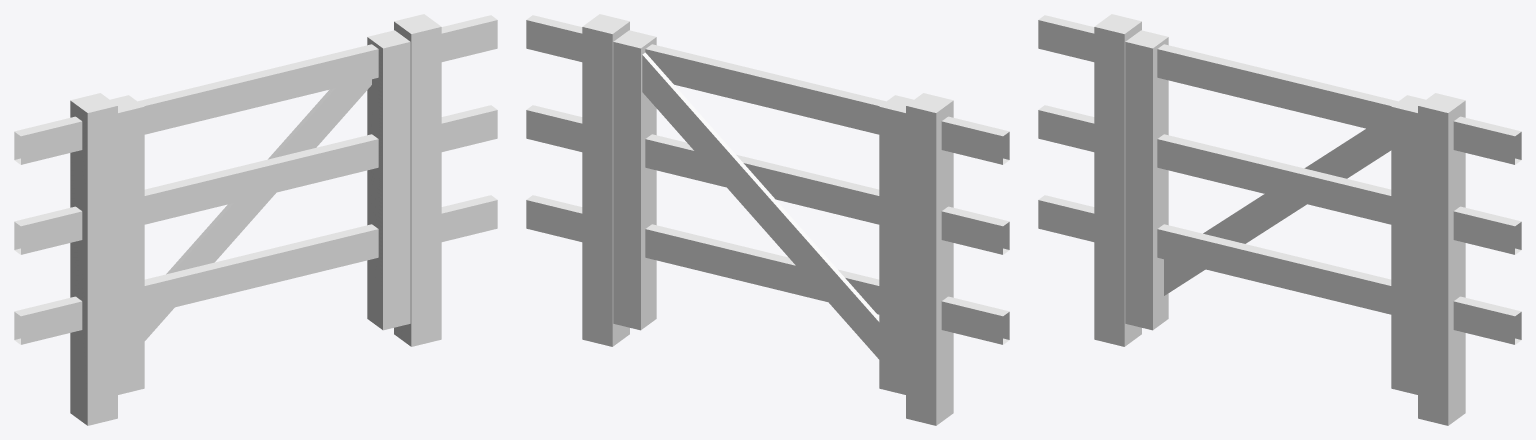
The model's file is Bld_02_Fence_Wood_Gate_Single_Short_Sides_01.glb.
3 views of the same model, side by side, from view 1: azimuth 30°, elevation 25°; view 2: azimuth 150°, elevation 25°; view 3: azimuth 330°, elevation 25° (orthographic).
Parts seen in each view (by area): view 1: Bld_02_Fence_Wood_Gate_Single_Short_01, Bld_02_Fence_Wood_Gate_Single_Short_Sides_01; view 2: Bld_02_Fence_Wood_Gate_Single_Short_01, Bld_02_Fence_Wood_Gate_Single_Short_Sides_01; view 3: Bld_02_Fence_Wood_Gate_Single_Short_01, Bld_02_Fence_Wood_Gate_Single_Short_Sides_01.
Part boxes in pixels (<box>): Bld_02_Fence_Wood_Gate_Single_Short_01: <box>110,30,410,394</box>; Bld_02_Fence_Wood_Gate_Single_Short_Sides_01: <box>14,14,497,425</box>; Bld_02_Fence_Wood_Gate_Single_Short_01: <box>613,30,913,394</box>; Bld_02_Fence_Wood_Gate_Single_Short_Sides_01: <box>526,14,1009,425</box>; Bld_02_Fence_Wood_Gate_Single_Short_01: <box>1125,30,1425,394</box>; Bld_02_Fence_Wood_Gate_Single_Short_Sides_01: <box>1038,14,1521,425</box>.
Size of the model in its own units: 2.44 by 1.53 by 0.155.
Materials: 1 (1 with a texture image).
